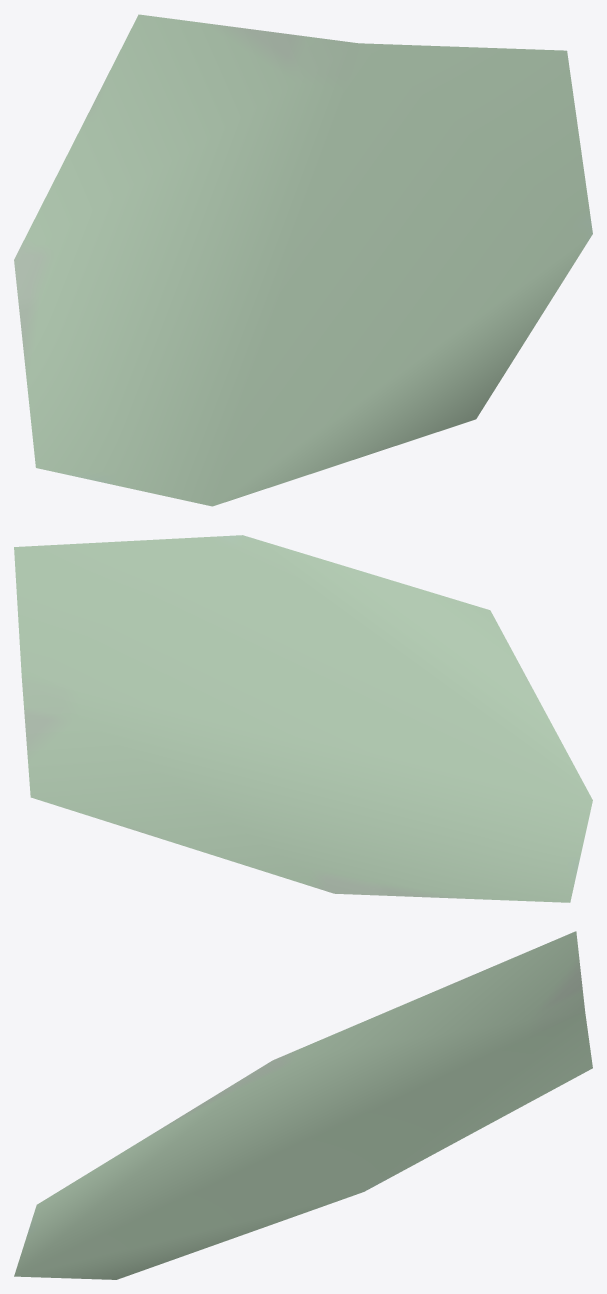
The model's file is TROLLHOLE02_HOLECAP126.fbx.
The picture shows the model from 3 angles, top to bottom: view 1: azimuth 30°, elevation 25°; view 2: azimuth 150°, elevation 25°; view 3: azimuth 330°, elevation 25°; orthographic projection. The views are drawn at different scales.
Visible parts, largest first — view 1: TROLLHOLE02_HOLECAP126; view 2: TROLLHOLE02_HOLECAP126; view 3: TROLLHOLE02_HOLECAP126.
Part boxes in pixels (x1=…): TROLLHOLE02_HOLECAP126: x1=14, y1=14, x2=592, y2=506; TROLLHOLE02_HOLECAP126: x1=14, y1=535, x2=592, y2=902; TROLLHOLE02_HOLECAP126: x1=14, y1=931, x2=592, y2=1279.
Bounding box in the file's own units: 16049 × 7130 × 20454.
1 material, 1 textured.
